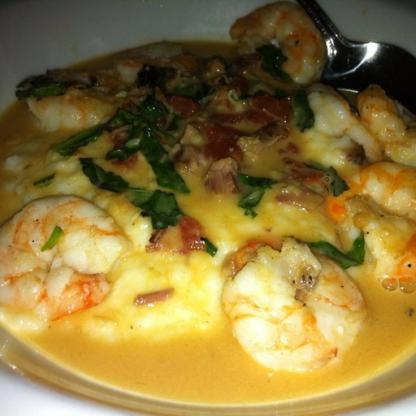shrimp: (219, 240, 368, 372), (0, 189, 121, 322)
